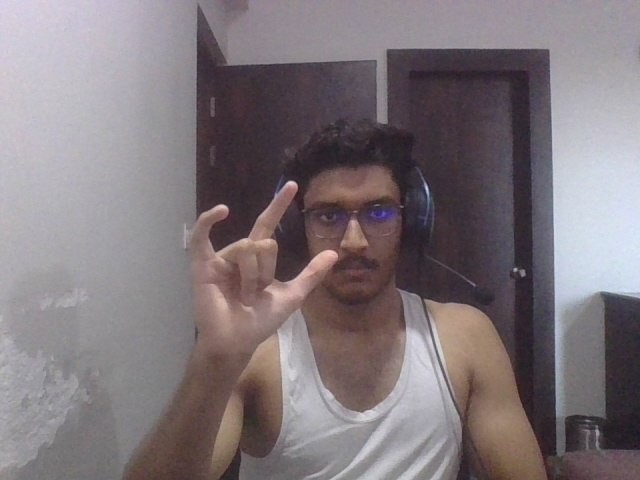I love You: (182, 176, 338, 359)
